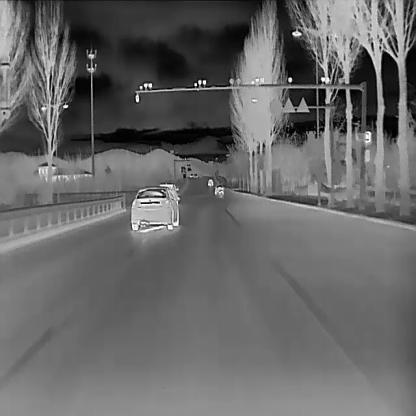car: (129, 185, 179, 229), (159, 180, 180, 203), (213, 183, 223, 194), (206, 177, 213, 185), (192, 172, 197, 177), (189, 172, 193, 177)
